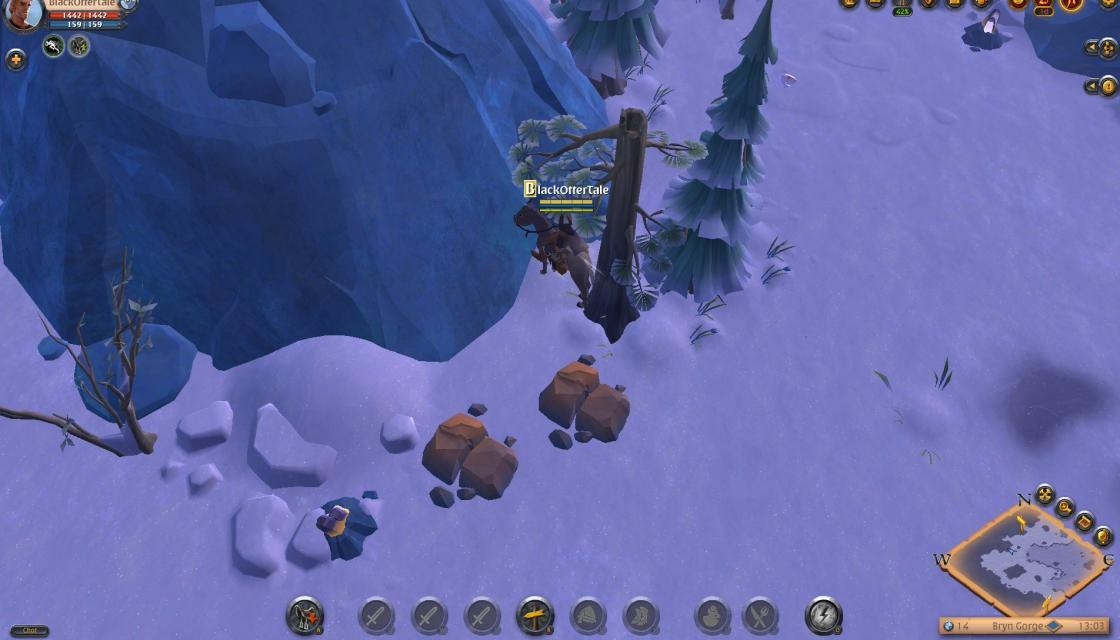copperore: (310, 492, 380, 558), (958, 7, 1011, 48)
limestone: (420, 404, 520, 510), (534, 356, 632, 454)
